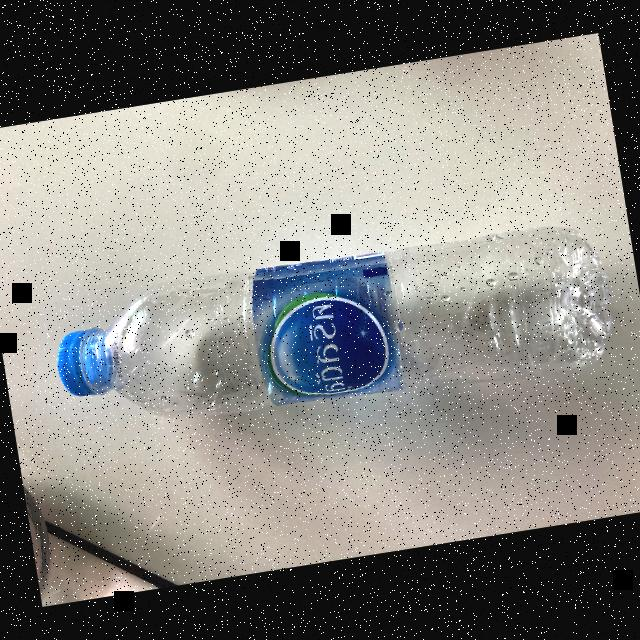plastic_bottle: (40, 203, 619, 457)
